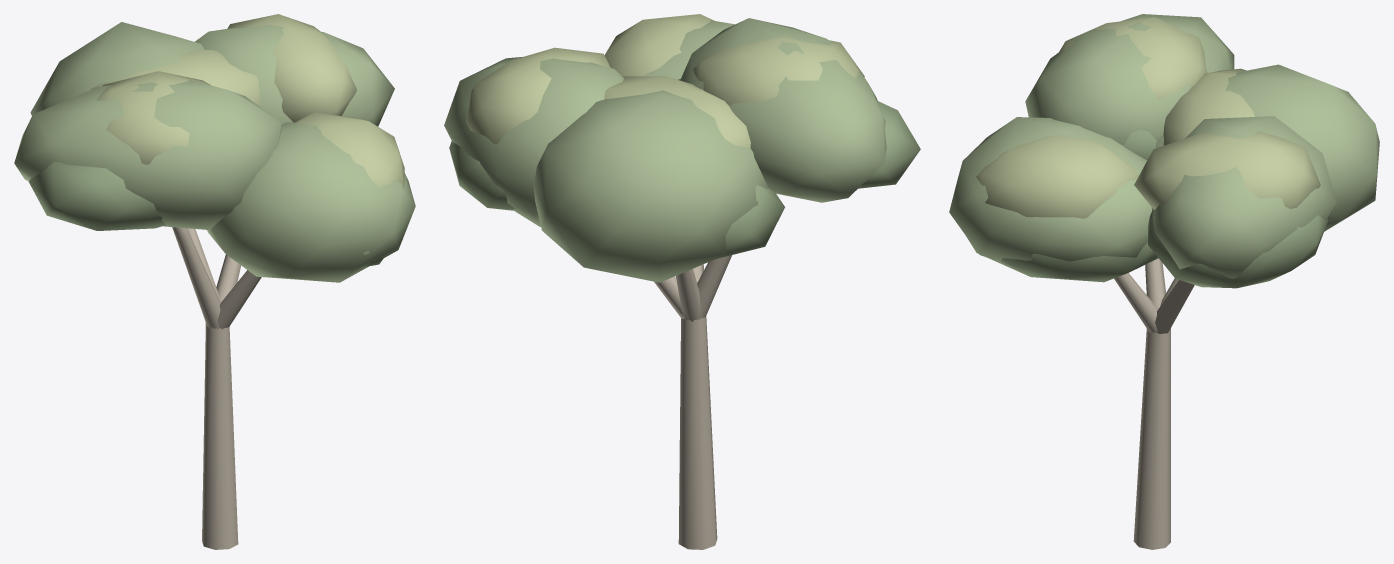
File: tree_eucalyptus_1.glb
3 views of the same model, side by side, from view 1: azimuth 30°, elevation 25°; view 2: azimuth 150°, elevation 25°; view 3: azimuth 270°, elevation 25° (orthographic). The views are drawn at different scales.
Parts seen in each view (by area): view 1: tree_eucalyptus_1.glb; view 2: tree_eucalyptus_1.glb; view 3: tree_eucalyptus_1.glb.
Boxes of the visible parts, x1,y1,x2,y2 form: tree_eucalyptus_1.glb: (14,14,415,549); tree_eucalyptus_1.glb: (444,14,920,549); tree_eucalyptus_1.glb: (949,14,1379,549).
Bounding box in the file's own units: 5.49 × 6.52 × 5.31.
